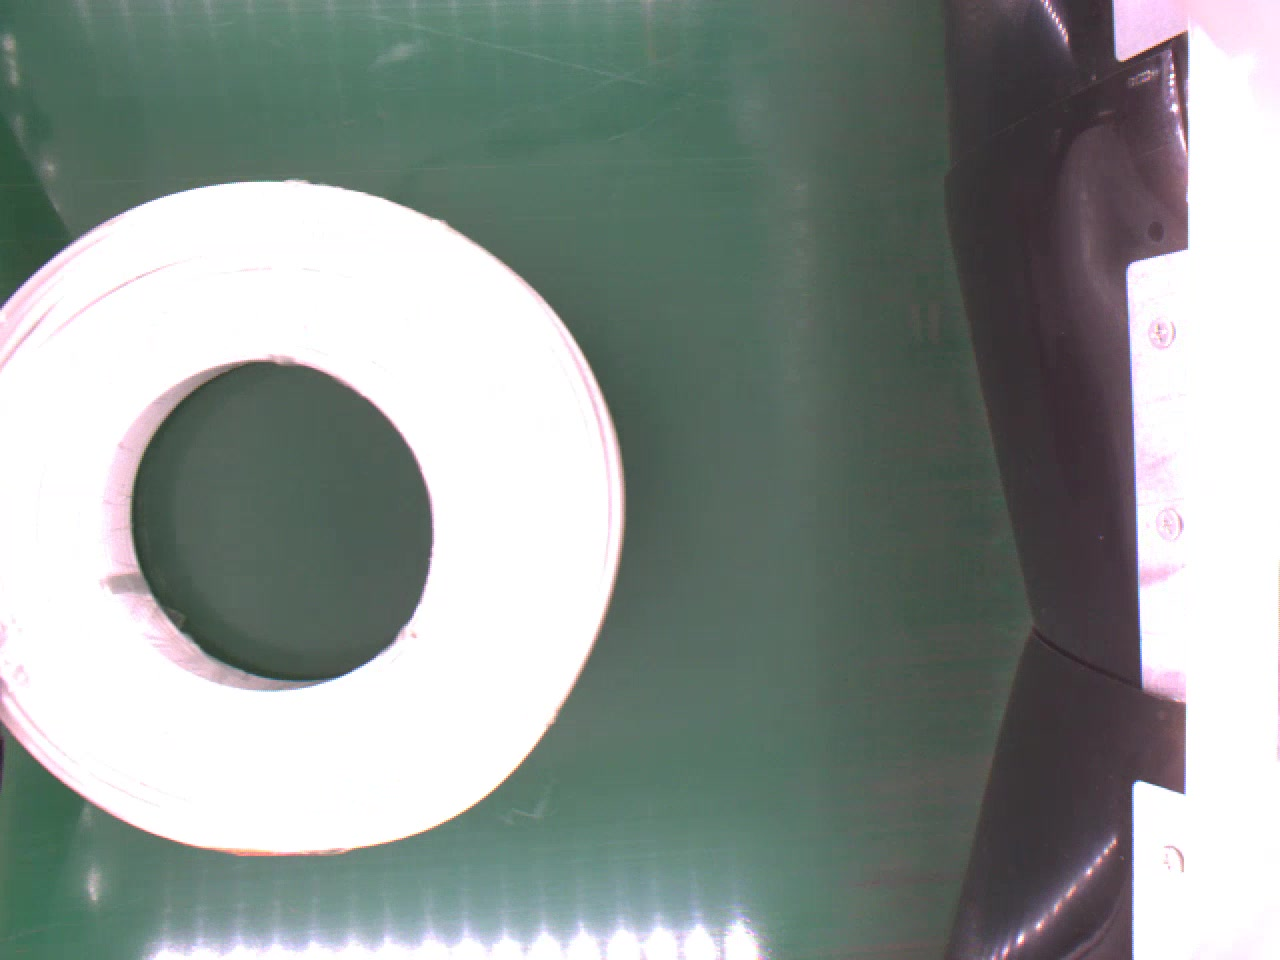white: (0, 174, 623, 864)
